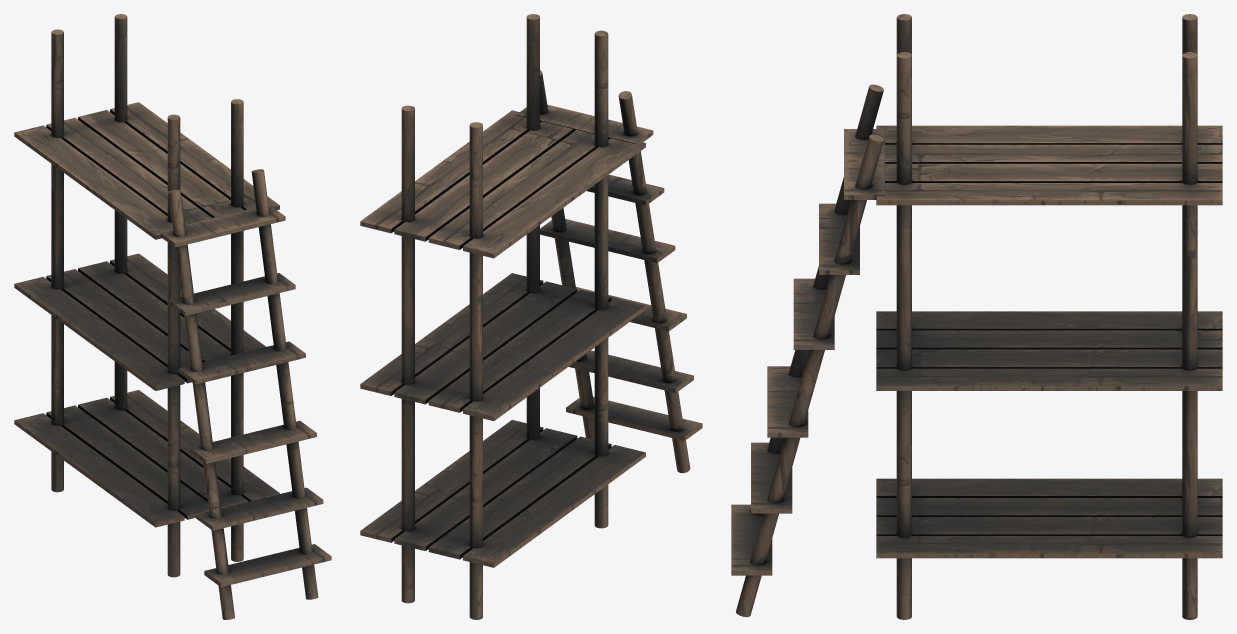
Rendered from StairsWoods.fbx.
3 views of the same model, side by side, from view 1: azimuth 30°, elevation 25°; view 2: azimuth 150°, elevation 25°; view 3: azimuth 270°, elevation 25° (orthographic). The views are drawn at different scales.
Parts seen in each view (by area): view 1: polymsh; view 2: polymsh; view 3: polymsh.
Part boxes in pixels (left/top/right/bottom): polymsh: left=14, top=14, right=331, bottom=619; polymsh: left=360, top=14, right=702, bottom=619; polymsh: left=731, top=14, right=1222, bottom=619.
Bounding box in the file's own units: 7.47 × 26.26 × 20.83.
